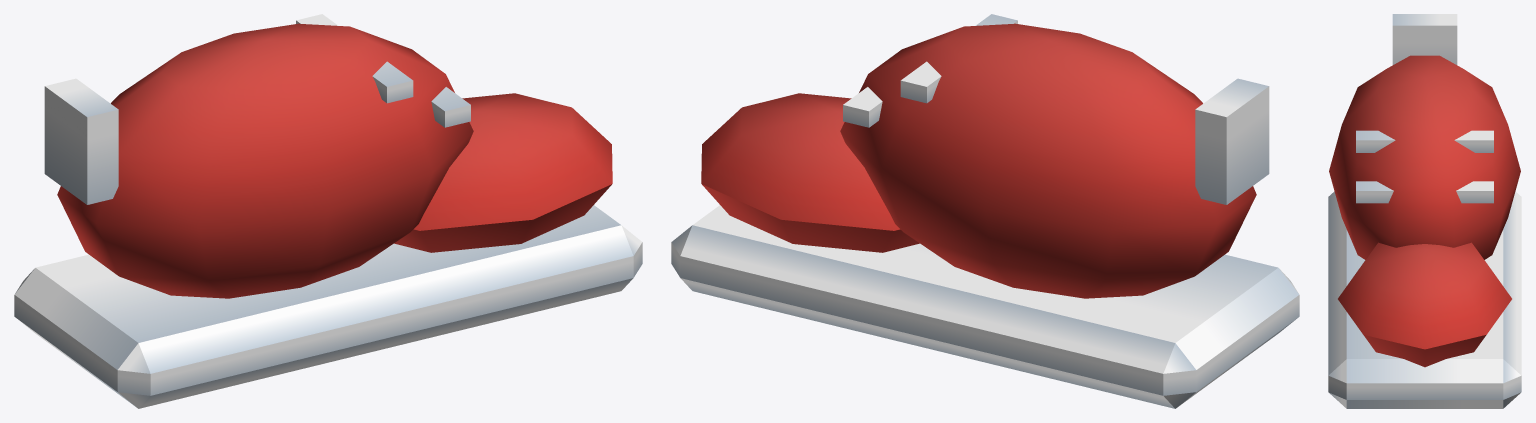
File: dt_lost_sneaker.fbx
3 renders of one model, left to right at view 1: azimuth 30°, elevation 25°; view 2: azimuth 150°, elevation 25°; view 3: azimuth 270°, elevation 25°, orthographic. The views are drawn at different scales.
Visible parts, largest first — view 1: dt_lost_sneaker; view 2: dt_lost_sneaker; view 3: dt_lost_sneaker.
Part boxes in pixels (left/top/right/bottom): dt_lost_sneaker: left=14, top=14, right=642, bottom=408; dt_lost_sneaker: left=671, top=14, right=1299, bottom=408; dt_lost_sneaker: left=1328, top=14, right=1521, bottom=408.
Bounding box in the file's own units: 130 × 65.4 × 52.5.
